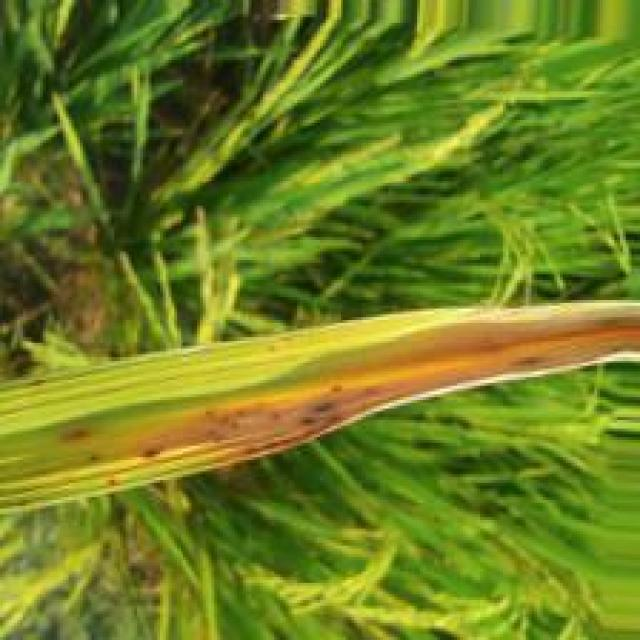Bacterial_Leaf_Blight: (90, 305, 637, 475)
